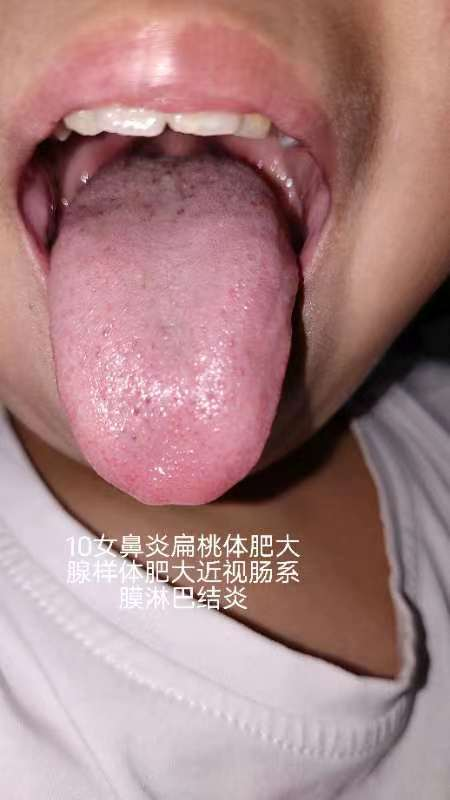baitaishe: (45, 156, 299, 506)
hongdianshe: (131, 406, 141, 418), (143, 394, 152, 407), (174, 206, 185, 216), (162, 166, 172, 177)
